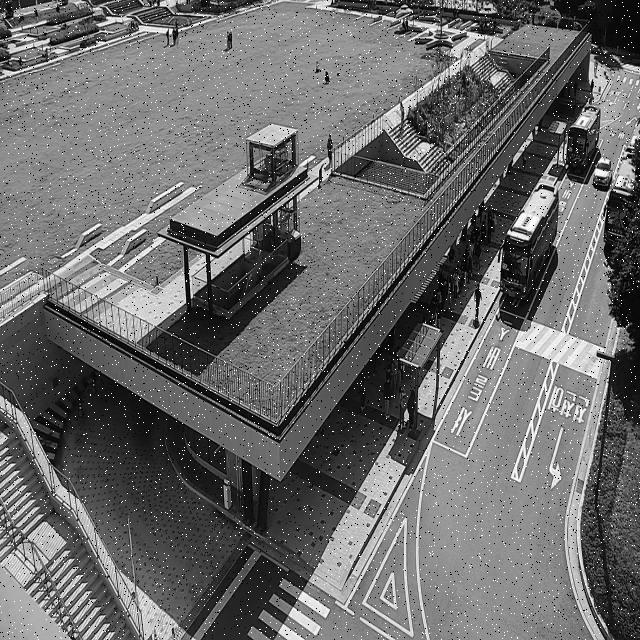queue: (387, 205, 497, 424)
